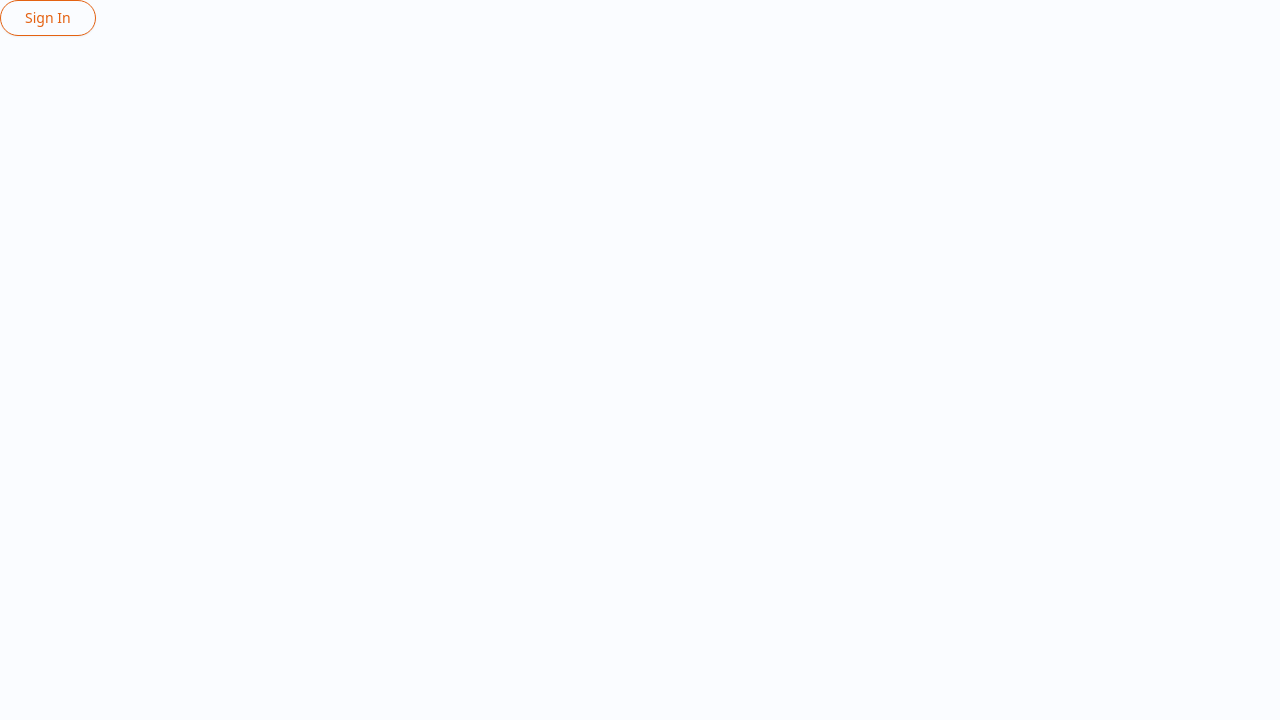
Test: AuthDialog › returns to options step from email input step
Click the button "Sign In".
click(48, 18)  # box left=0, top=0, right=96, bottom=36
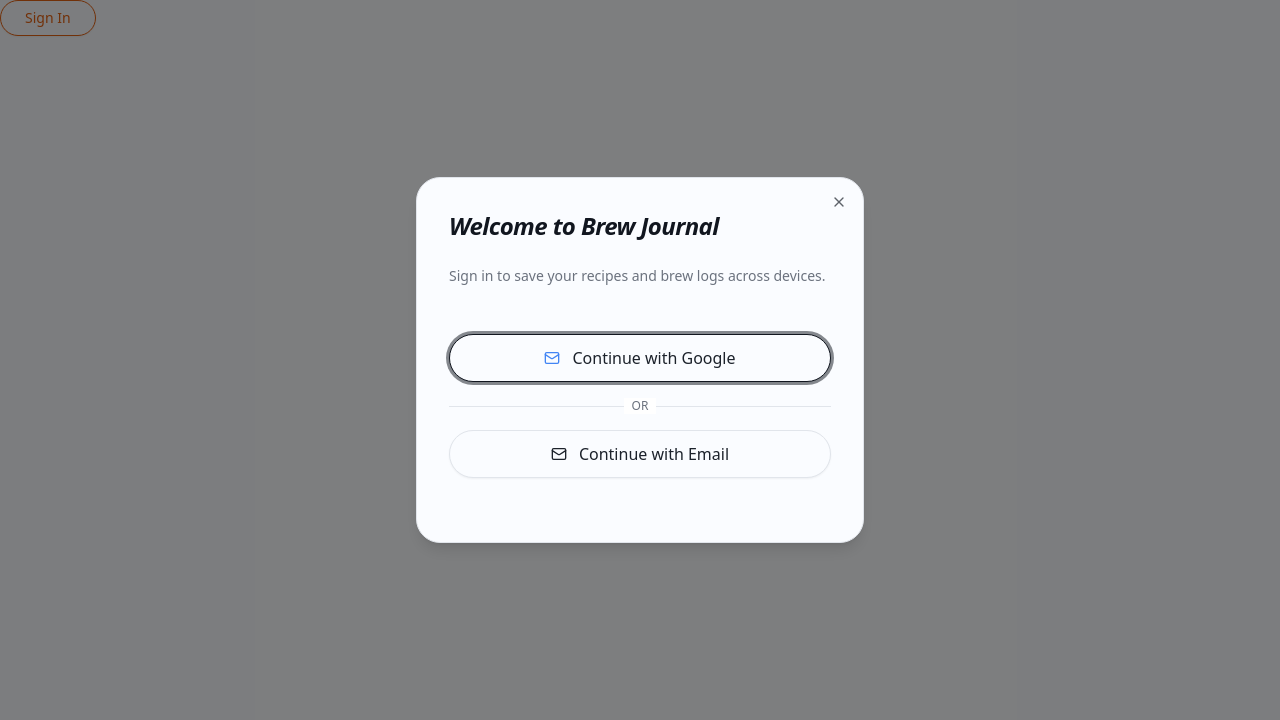
Click the button "Continue with Email".
click(640, 454)  # box left=449, top=430, right=831, bottom=478
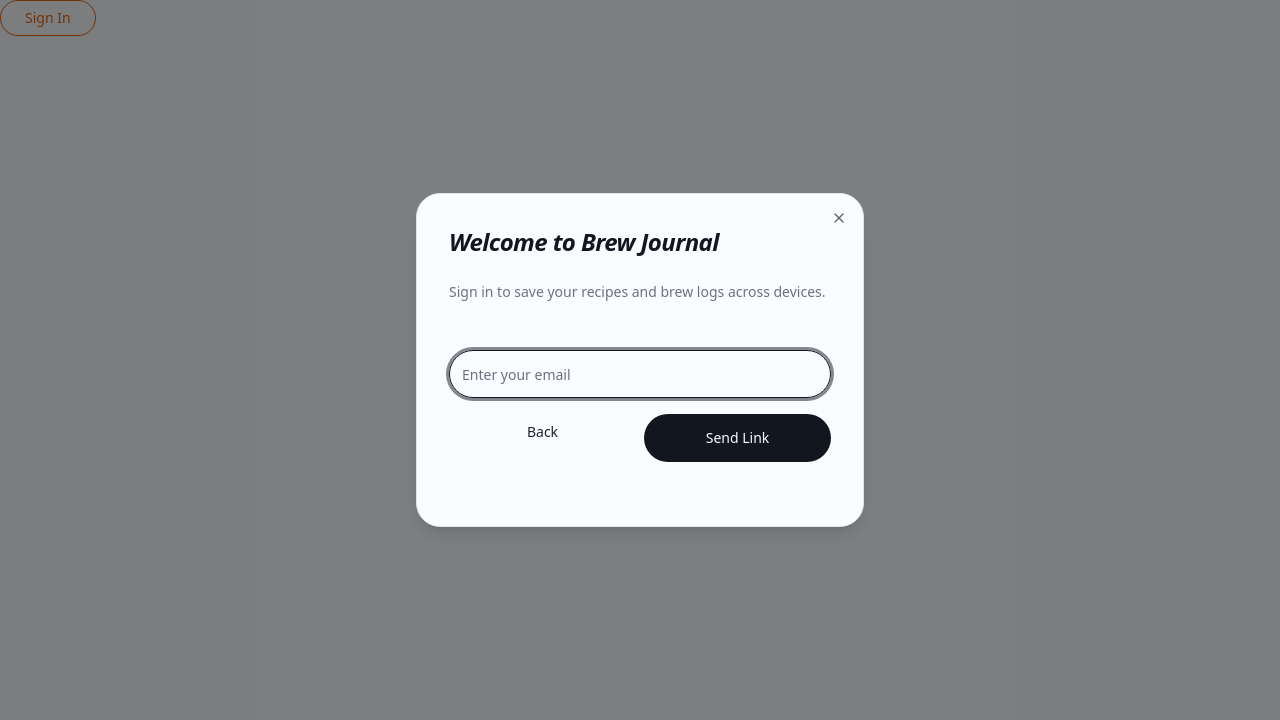
Click the button "Back".
click(542, 432)  # box left=449, top=414, right=636, bottom=450
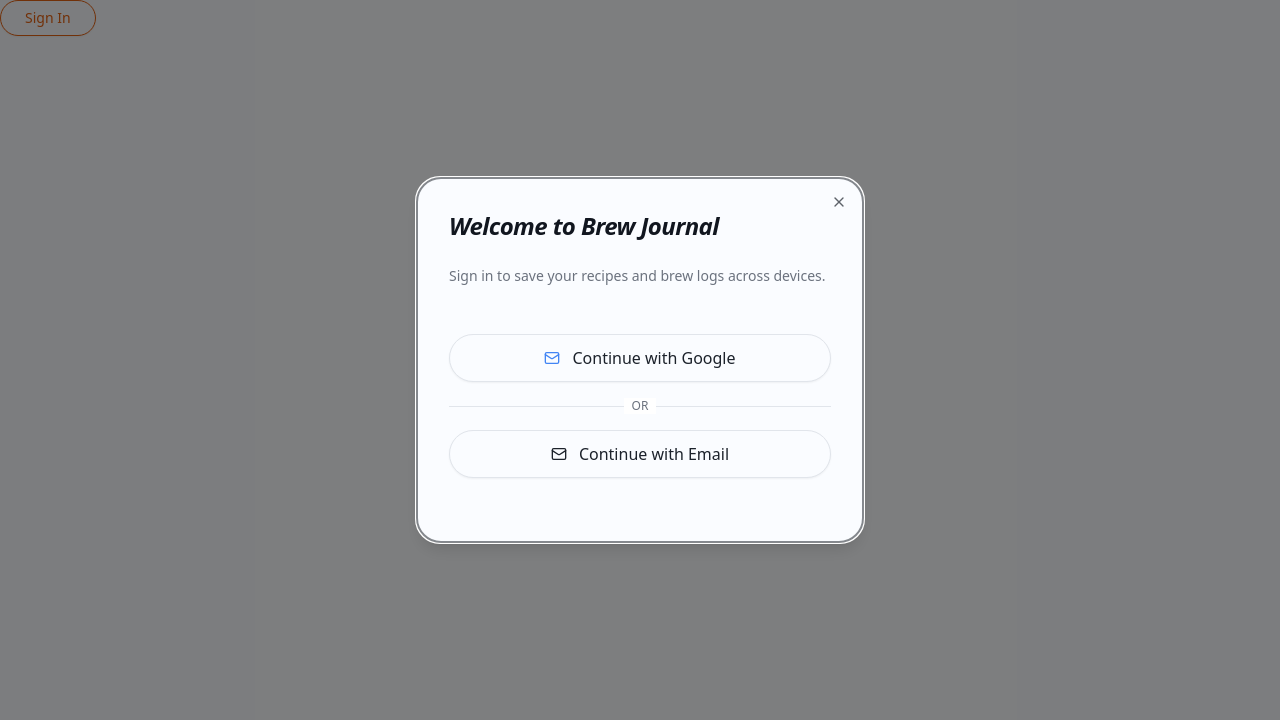
Result: the button "Continue with Google" is shown at left=449, top=334, right=831, bottom=382
